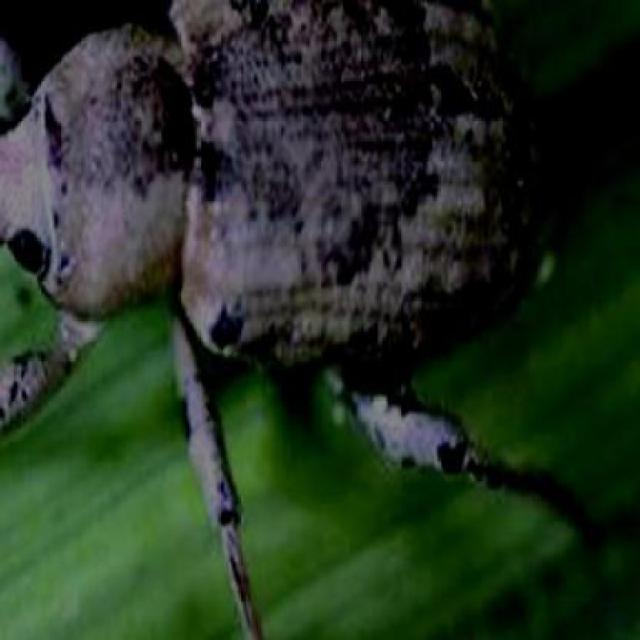rice-bug: (4, 4, 536, 448)
